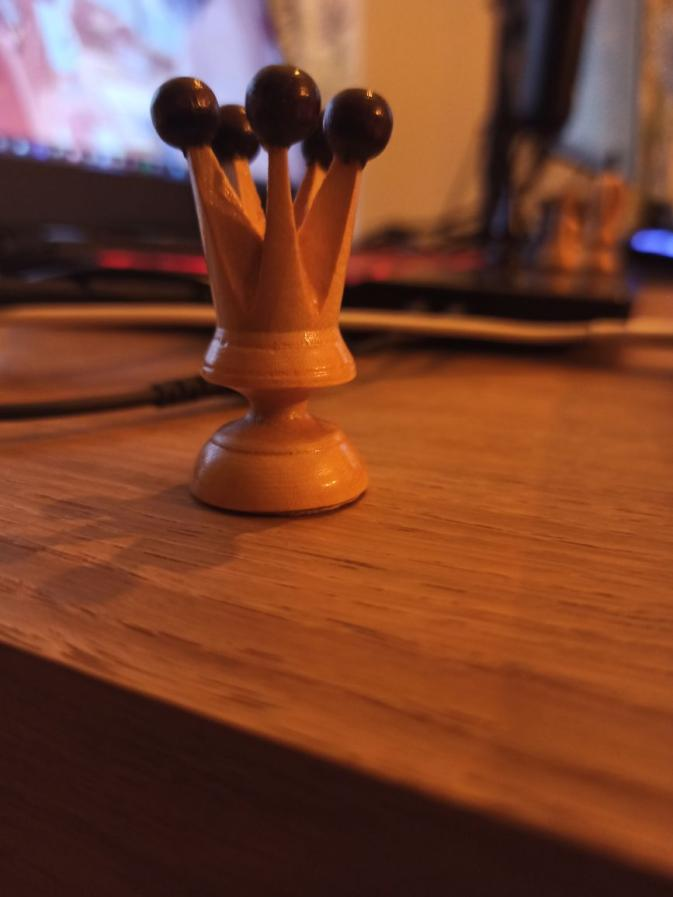wqueen: (147, 65, 394, 519)
